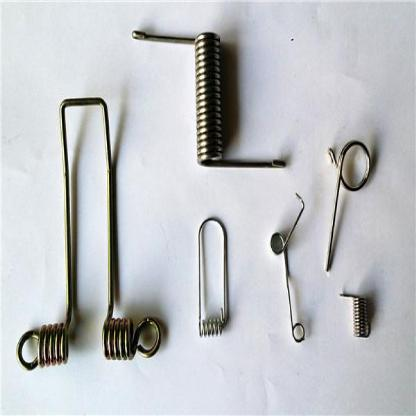FOD: (13, 91, 165, 378), (131, 25, 286, 172), (322, 138, 371, 277), (269, 190, 308, 342), (196, 214, 232, 343), (339, 291, 372, 339)
